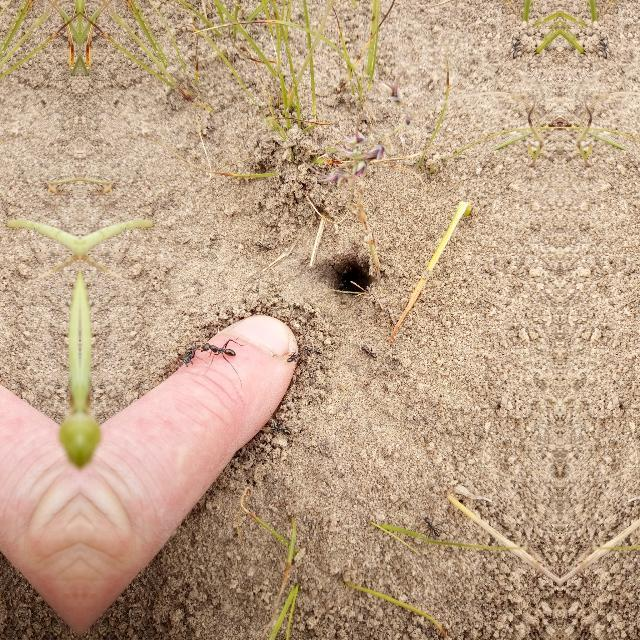Cataglyphis: (202, 334, 242, 368), (421, 511, 442, 542), (267, 416, 293, 439), (179, 344, 199, 368), (302, 342, 328, 360), (360, 343, 380, 363), (507, 37, 521, 63), (599, 37, 613, 63), (285, 347, 303, 365)
